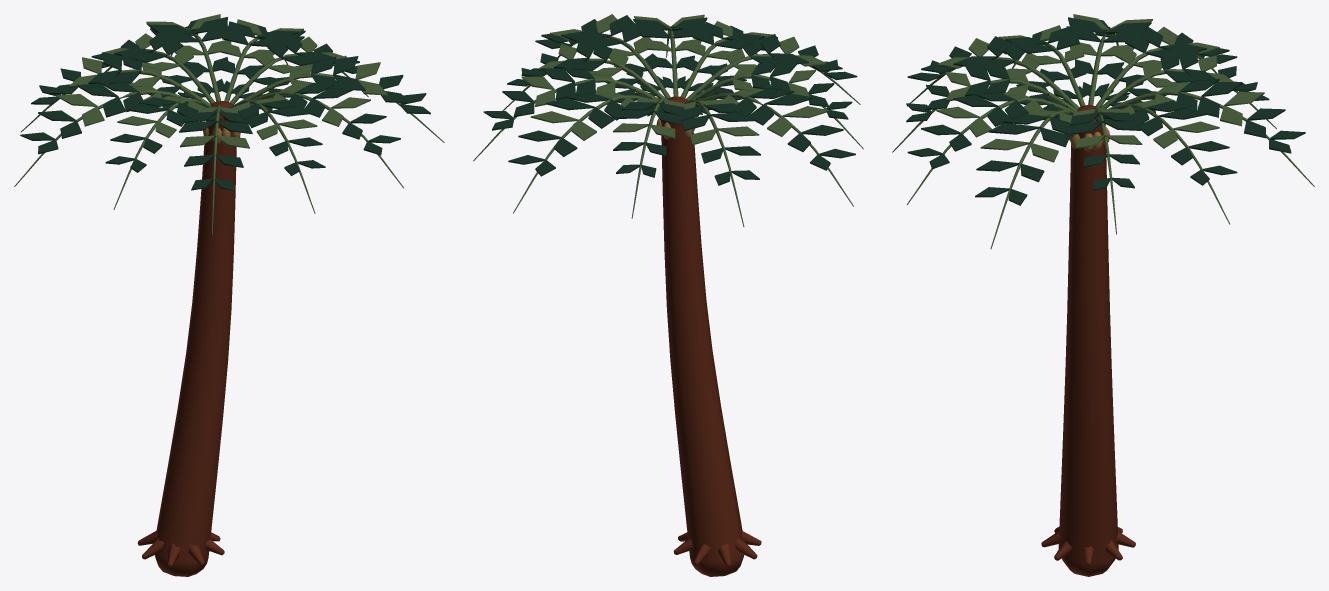
The model's file is TreeFern.fbx.
3 views of the same model, side by side, from view 1: azimuth 30°, elevation 25°; view 2: azimuth 150°, elevation 25°; view 3: azimuth 270°, elevation 25° (orthographic). The views are drawn at different scales.
Visible parts, largest first — view 1: TreeFern; view 2: TreeFern; view 3: TreeFern.
Boxes of the visible parts, <box> form: TreeFern: <box>14,14,444,576</box>; TreeFern: <box>473,14,863,576</box>; TreeFern: <box>892,14,1314,576</box>.
Bounding box in the file's own units: 343 × 435 × 323.
